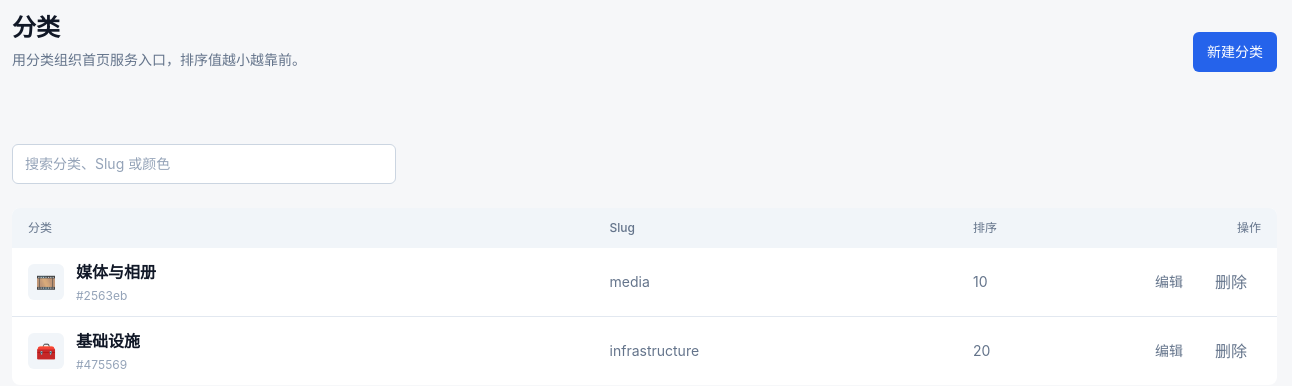
Test: CategoriesView › filters categories by search query
Type "infra" into the search field named "搜索分类" at [204, 164], box x1=12 y1=144 x2=396 y2=184
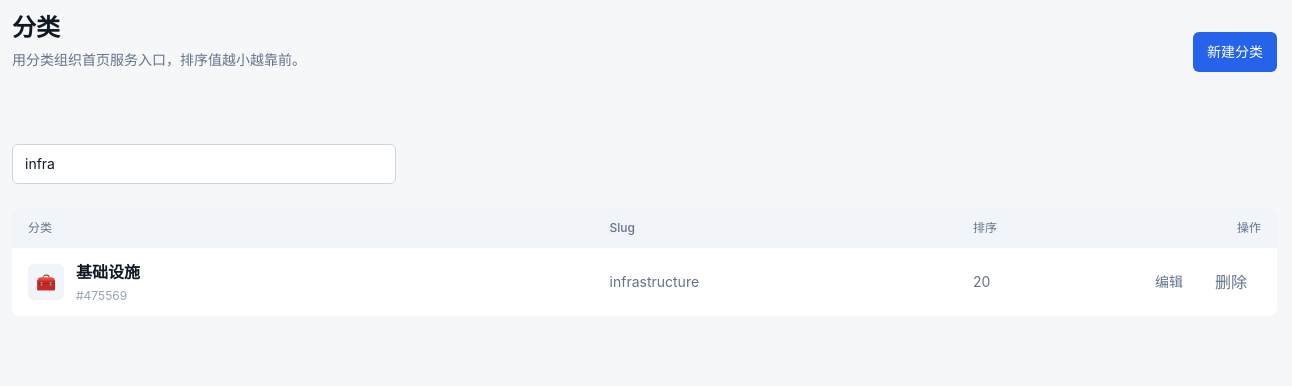
Expected: the text "基础设施" is shown, x1=76 y1=260 x2=140 y2=284
Expected: the text "媒体与相册" is gone
Replace the text in the search field named "搜索分类" with "不存在" at [204, 164], box x1=12 y1=144 x2=396 y2=184
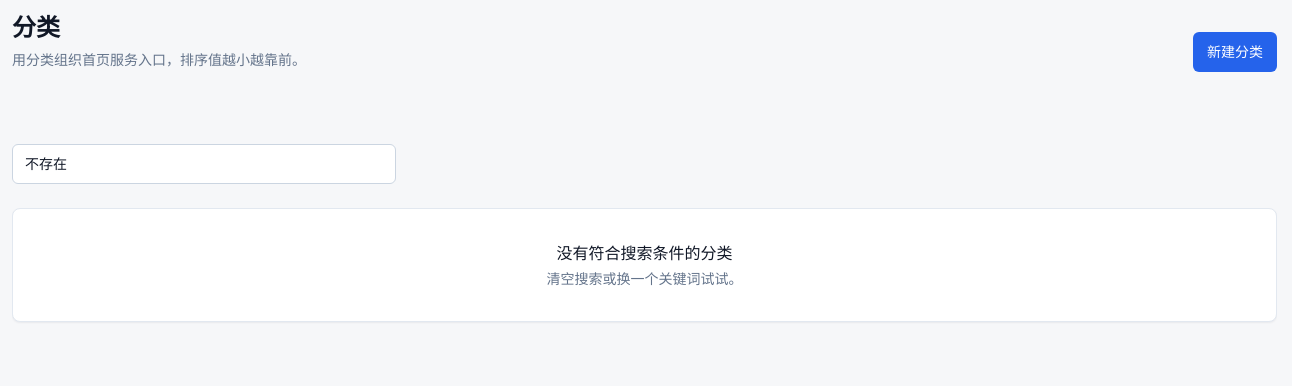
Expected: the text "没有符合搜索条件的分类" is shown, x1=556 y1=243 x2=732 y2=263
